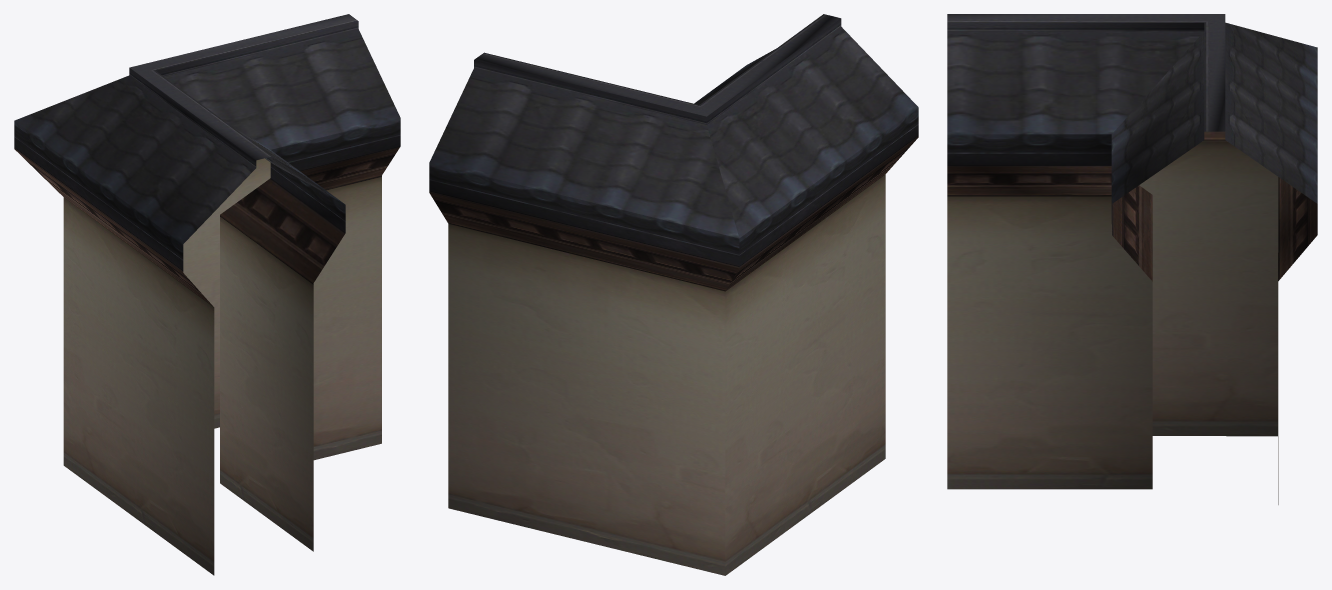
File: bujian_03.fbx
3 views of the same model, side by side, from view 1: azimuth 30°, elevation 25°; view 2: azimuth 150°, elevation 25°; view 3: azimuth 270°, elevation 25° (orthographic). The views are drawn at different scales.
Visible parts, largest first — view 1: pasted__polySurface4112; view 2: pasted__polySurface4112; view 3: pasted__polySurface4112.
Boxes of the visible parts, x1,y1,x2,y2 form: pasted__polySurface4112: (14,14,400,575); pasted__polySurface4112: (429,14,918,575); pasted__polySurface4112: (947,14,1317,504).
Bounding box in the file's own units: 3.52 × 4.65 × 3.52.
1 material, 1 textured.
